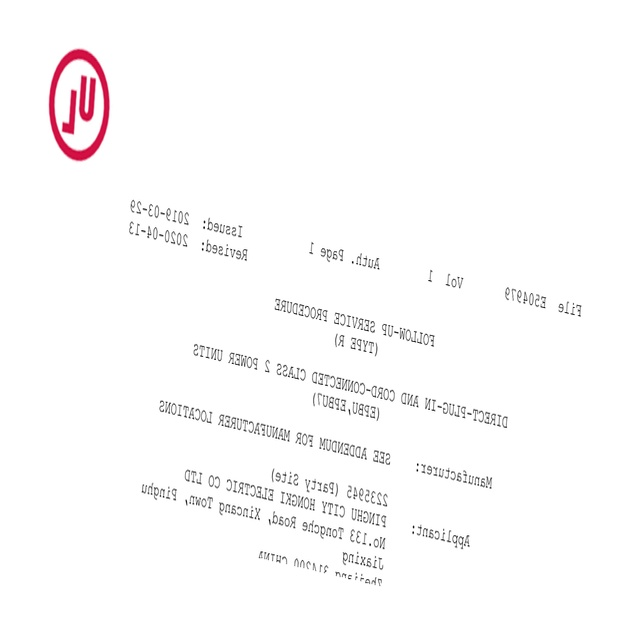ul: (48, 48, 110, 162)
